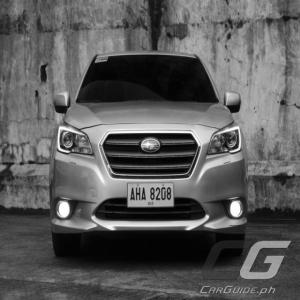Plate: (127, 183, 174, 208)
